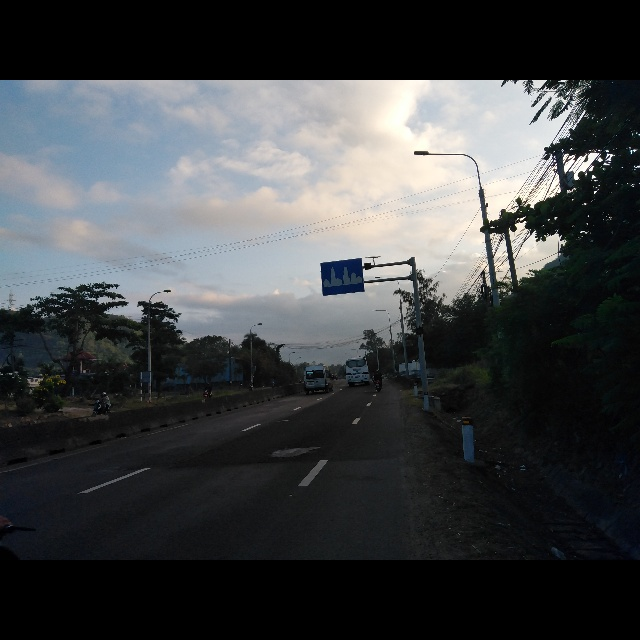Khu đông dân cư: (318, 258, 364, 294)
